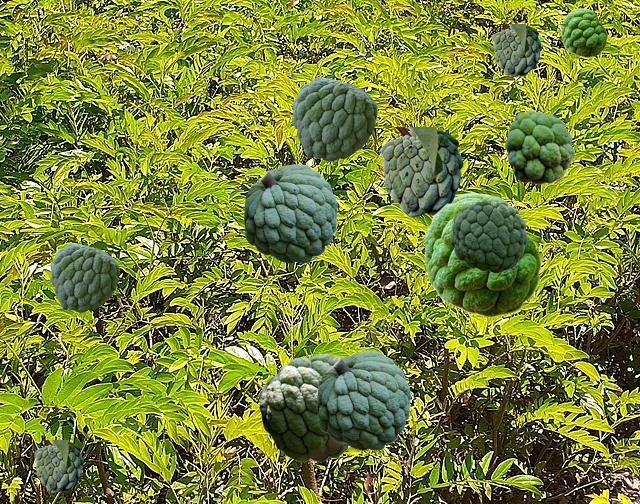atis: (424, 192, 540, 316), (380, 127, 506, 216), (258, 353, 348, 461), (244, 164, 336, 262), (317, 351, 409, 449), (292, 77, 376, 160), (450, 199, 526, 272), (505, 110, 573, 183), (50, 243, 118, 311), (34, 440, 108, 492), (492, 24, 566, 76), (561, 8, 606, 56)
